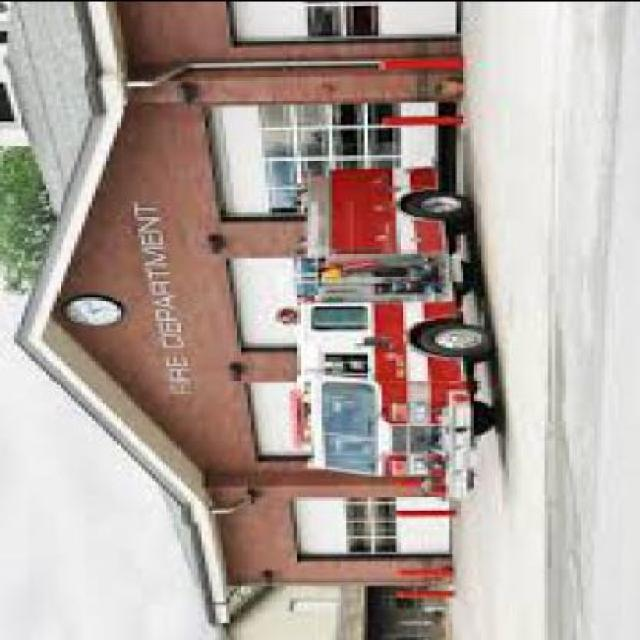Fire Truck: (276, 142, 516, 488)
